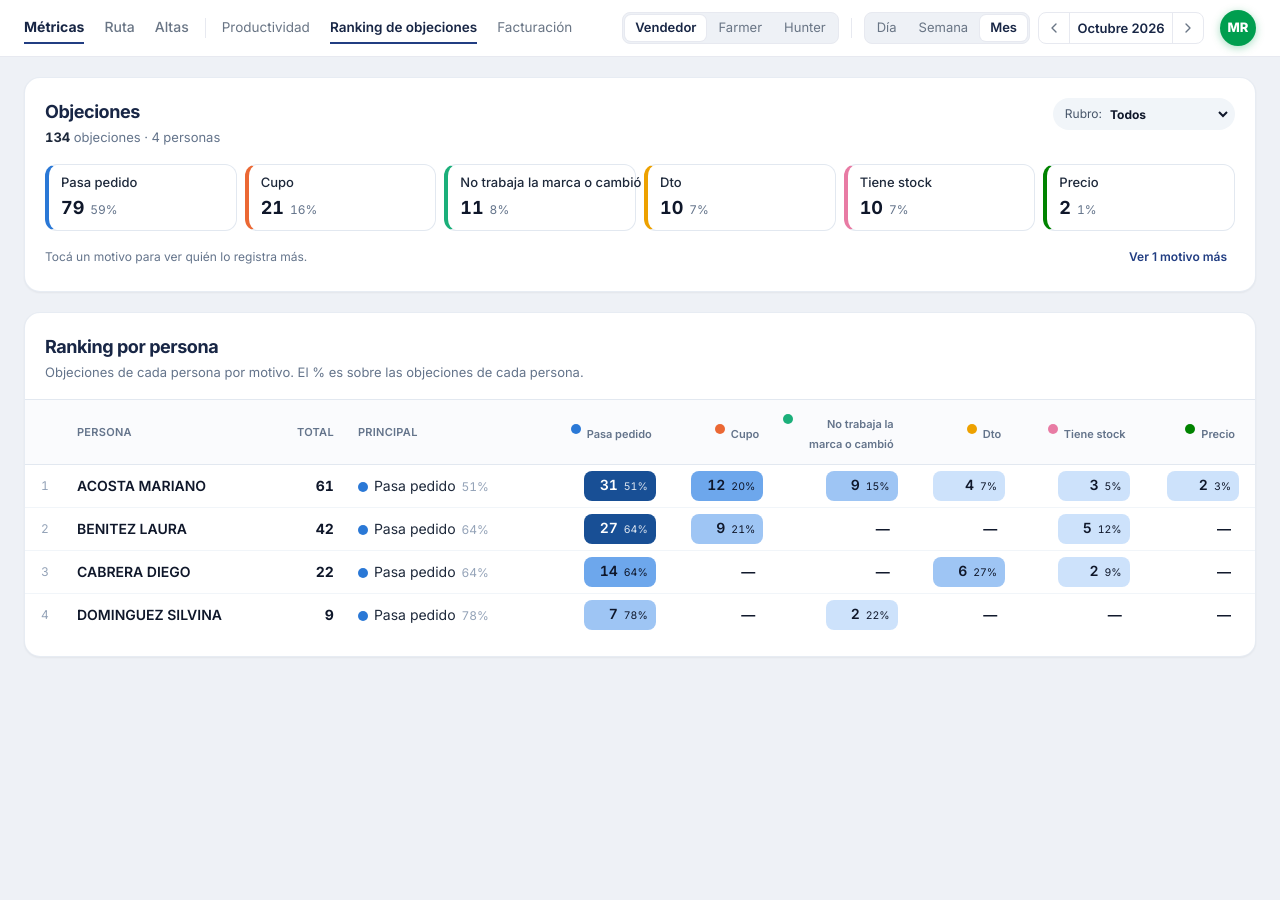
Ranking de objeciones › cambiar de tipo no repinta los motivos: cada uno conserva su color
Click the button "Farmer". click: (740, 28)
box: [708,15,772,41]
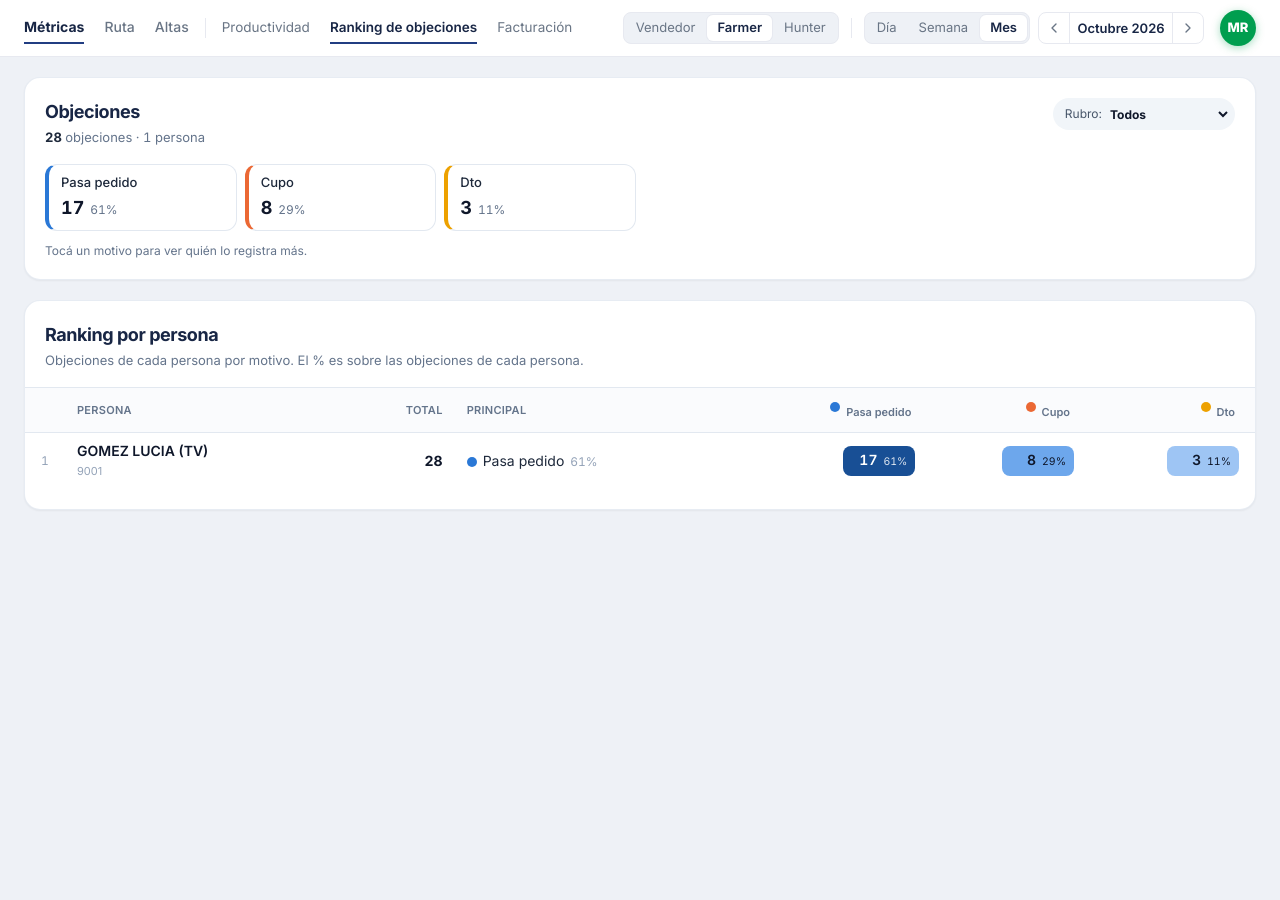
Result: the element with test id "total-objeciones" shows "1 persona" at [45,129,205,145]
